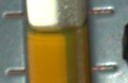border: (87, 63, 120, 75), (2, 67, 30, 78), (86, 8, 116, 17), (2, 11, 27, 20)
liquidlevel: (25, 20, 90, 43)
